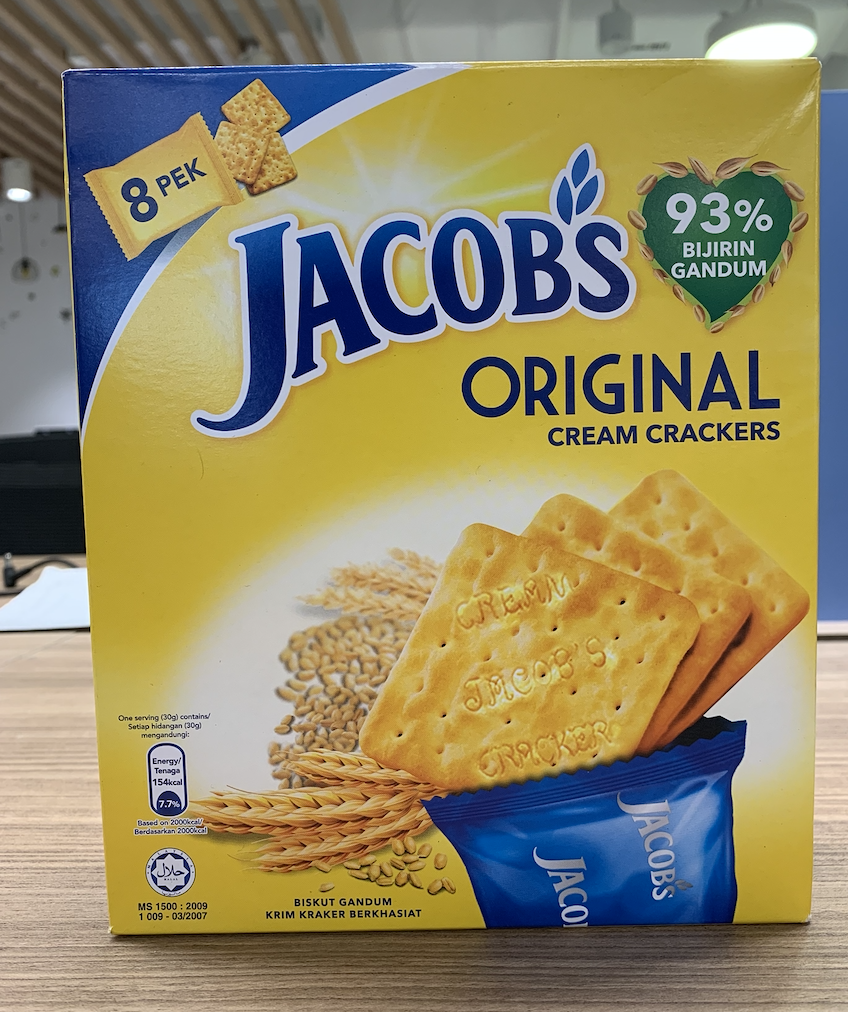halal: (154, 859, 190, 887)
